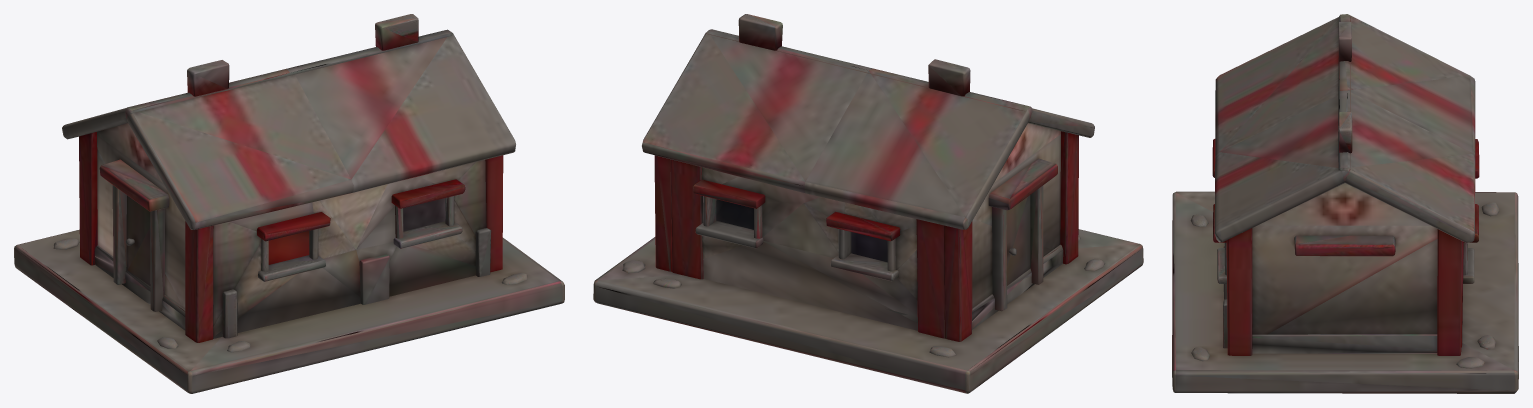
The model's file is barracks.glb.
3 views of the same model, side by side, from view 1: azimuth 30°, elevation 25°; view 2: azimuth 150°, elevation 25°; view 3: azimuth 270°, elevation 25° (orthographic).
Parts seen in each view (by area): view 1: hull; view 2: hull; view 3: hull.
Boxes of the visible parts, bbox=[...] form: hull: bbox=[14, 14, 564, 393]; hull: bbox=[593, 14, 1143, 393]; hull: bbox=[1172, 14, 1518, 393].
Size of the model in its own units: 1 by 0.6111 by 0.8121.
Materials: 1 (1 with a texture image).
